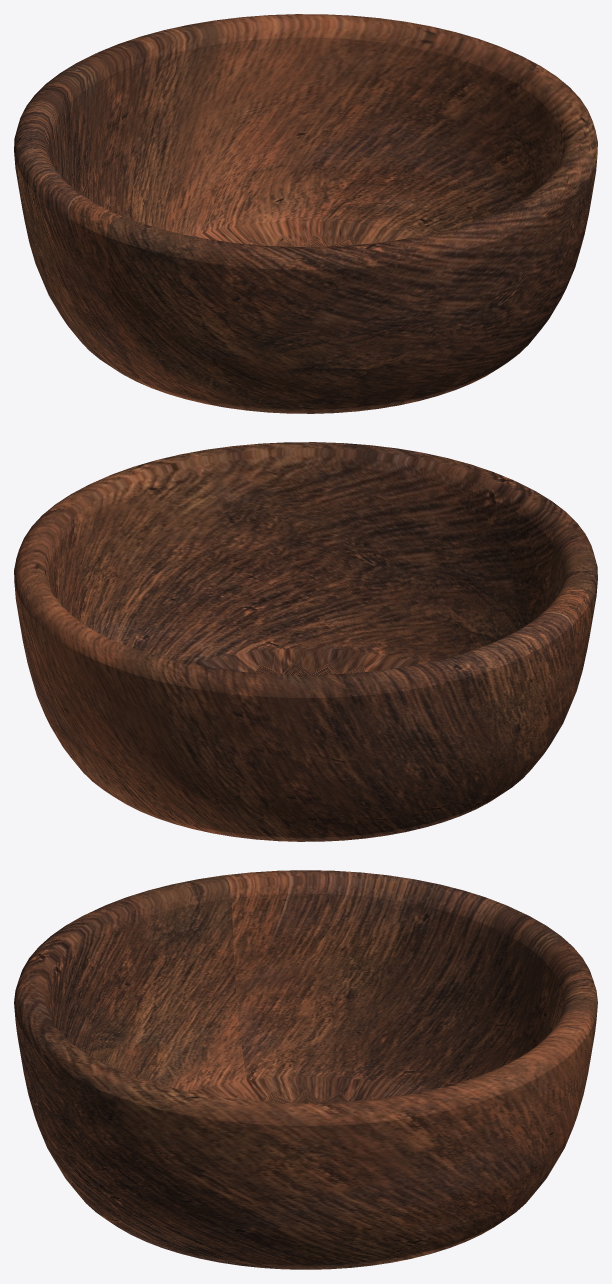
The picture shows the model from 3 angles, top to bottom: view 1: azimuth 30°, elevation 25°; view 2: azimuth 150°, elevation 25°; view 3: azimuth 270°, elevation 25°; orthographic projection.
Visible parts, largest first — view 1: Cylinder; view 2: Cylinder; view 3: Cylinder.
Boxes of the visible parts, left/top/right/bottom form: Cylinder: left=14, top=14, right=597, bottom=413; Cylinder: left=14, top=442, right=597, bottom=841; Cylinder: left=14, top=870, right=597, bottom=1269.
Bounding box in the file's own units: 0.125 × 0.045 × 0.125.
1 material, 1 textured.
